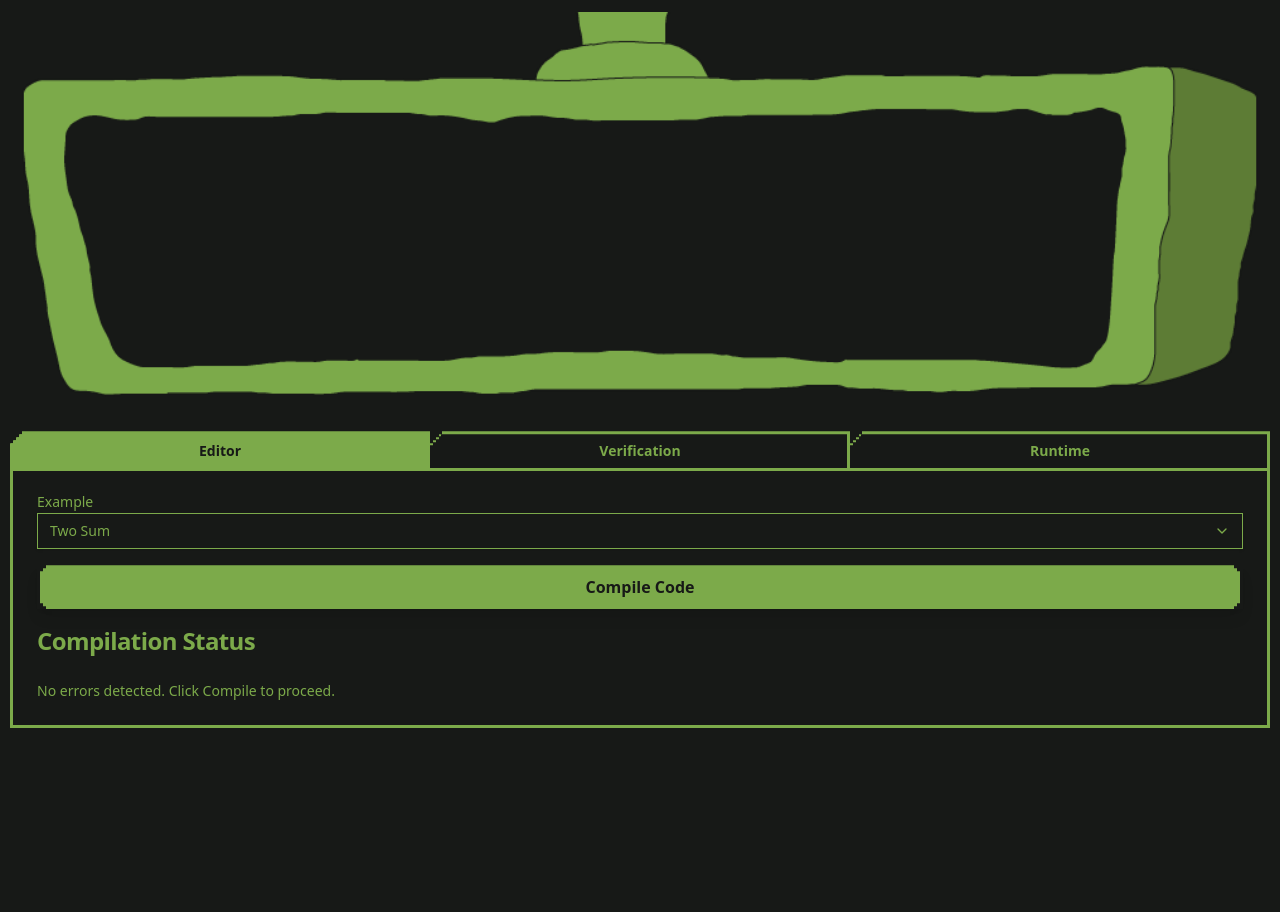
Test: ControlPanel › supports fuzzy example search with initials and skipped characters
The image size is (1280, 912).
Click the dropdown named "Example".
click(80, 531)  # box [37,513,1243,549]
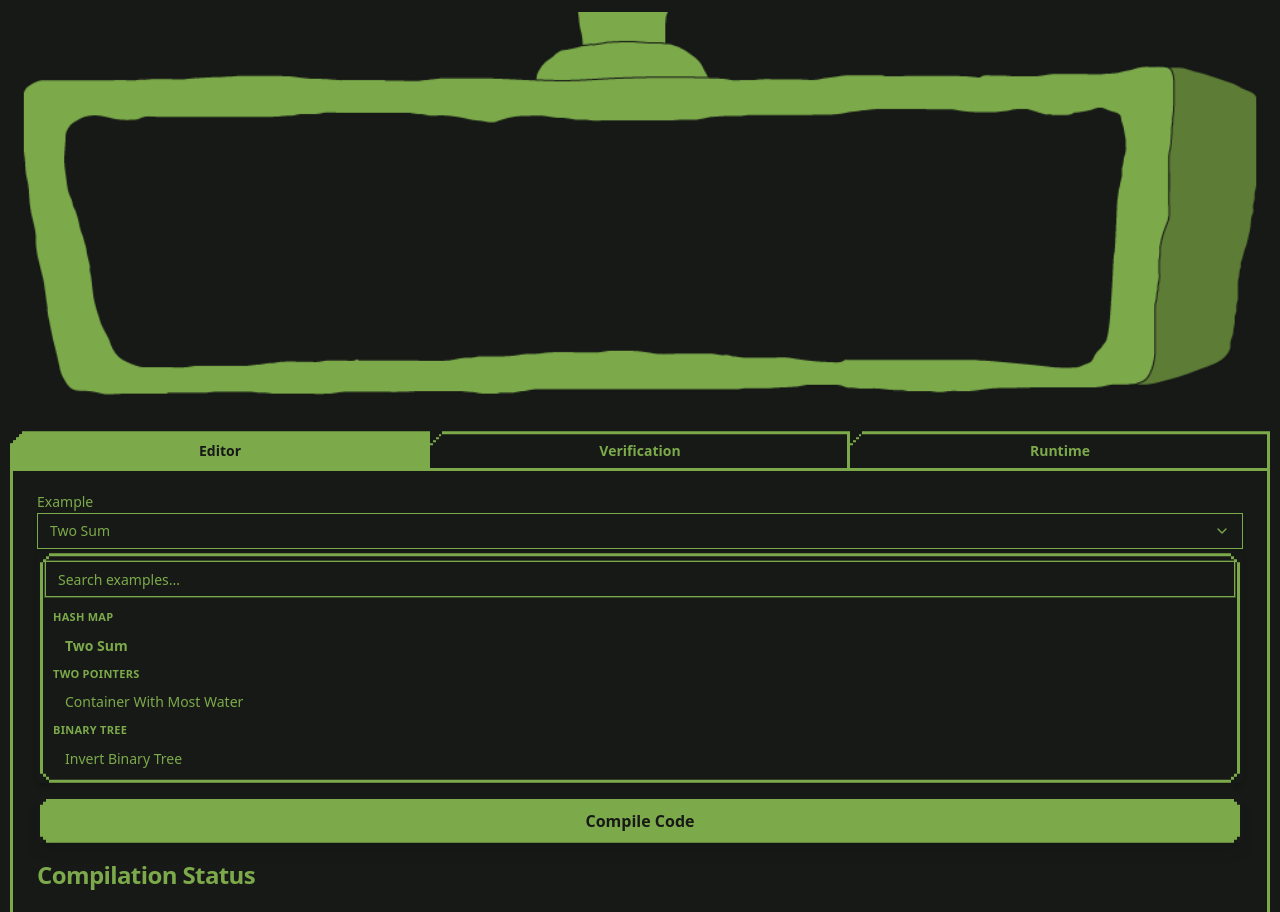
Type "cwmw" into the field labelled "Search examples".
click(640, 579); type("cwmw")  # box [45,561,1235,597]
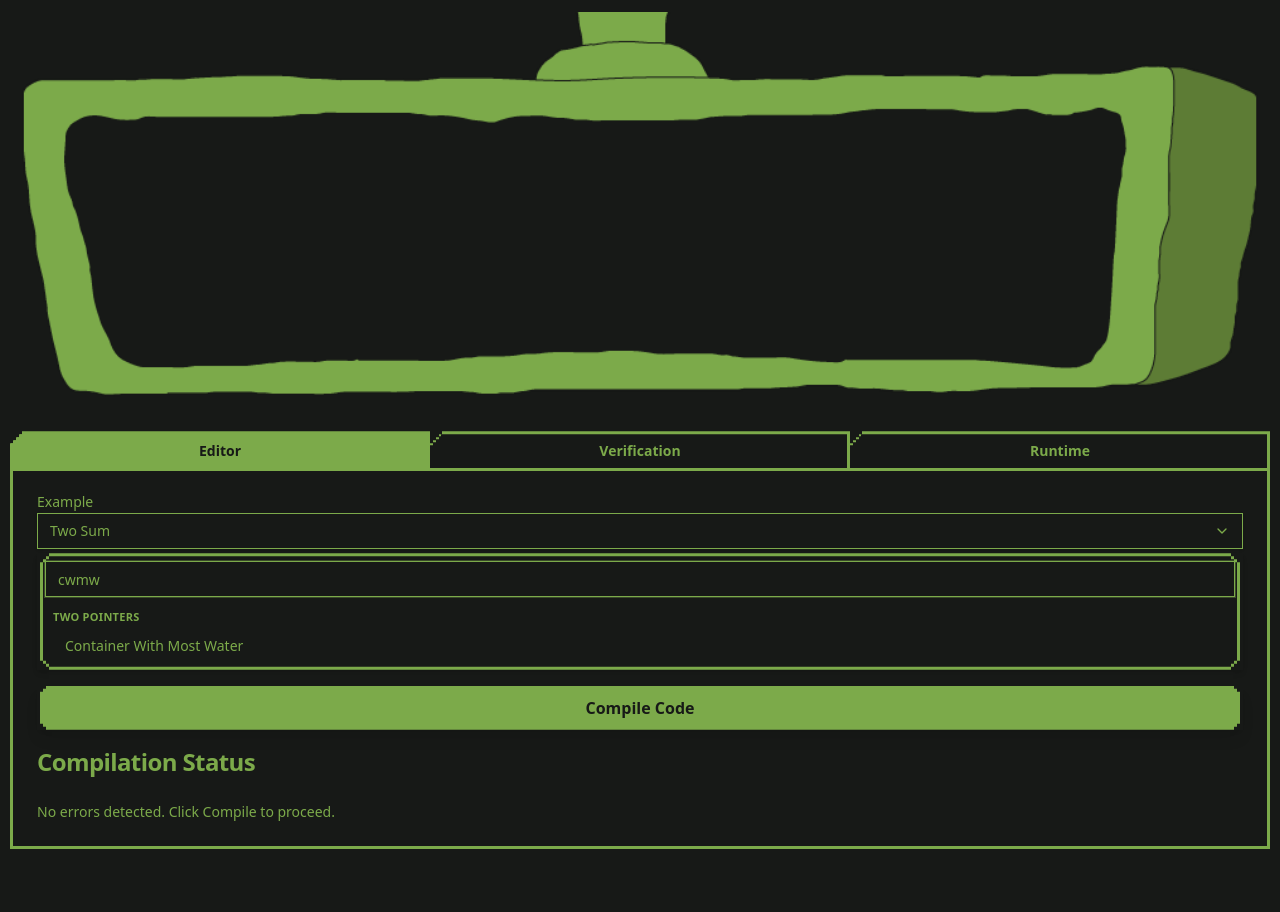
expect the option "Container With Most Water" is shown: met, box [45,630,1235,662]
expect the option "Invert Binary Tree" is gone: met
Replace the text in the field named "Search examples" with "ibt" at {"x": 640, "y": 579}, box [45,561,1235,597]
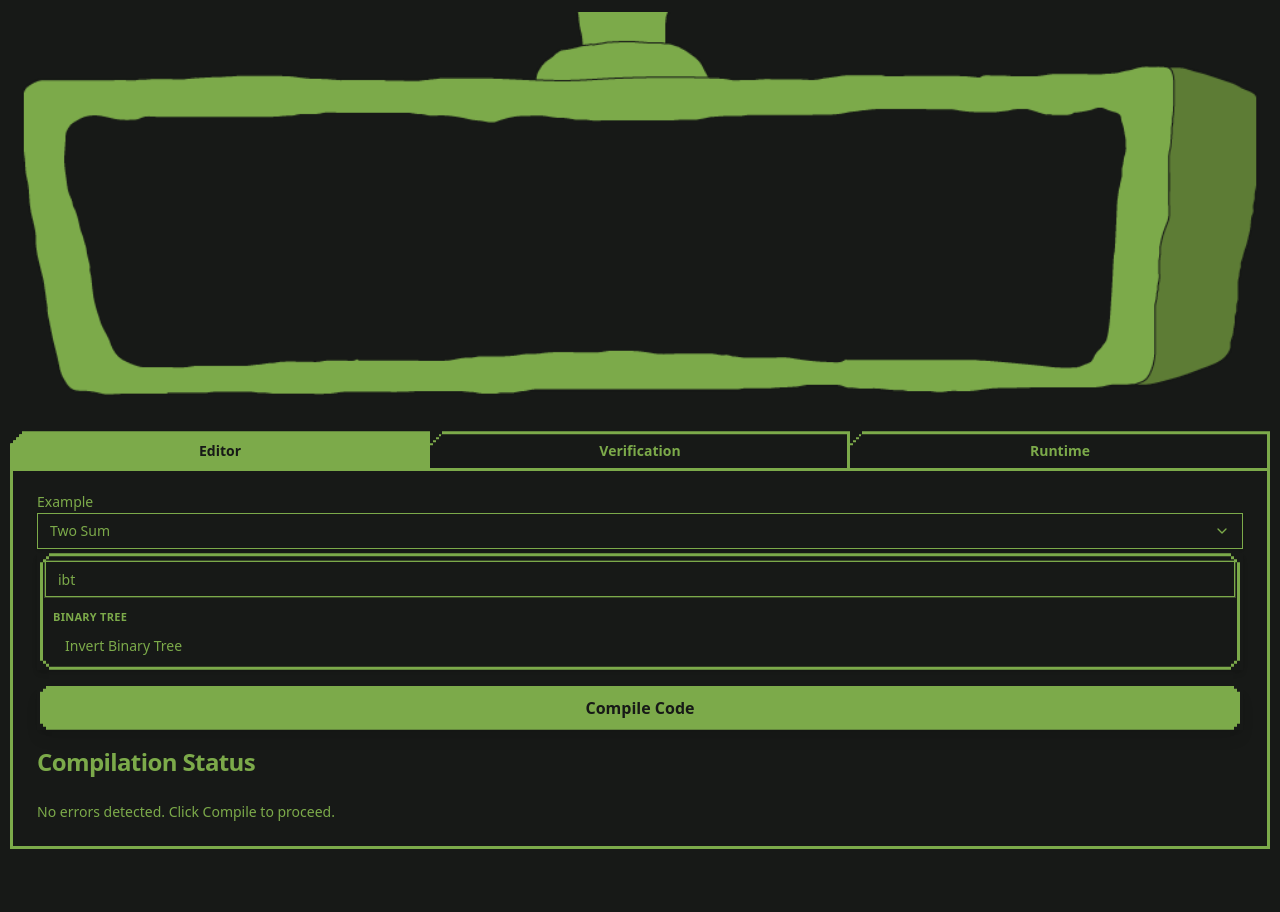
expect the option "Invert Binary Tree" is shown: met, box [45,630,1235,662]
expect the option "Container With Most Water" is gone: met
Replace the text in the field named "Search examples" with "cnt water" at {"x": 640, "y": 579}, box [45,561,1235,597]
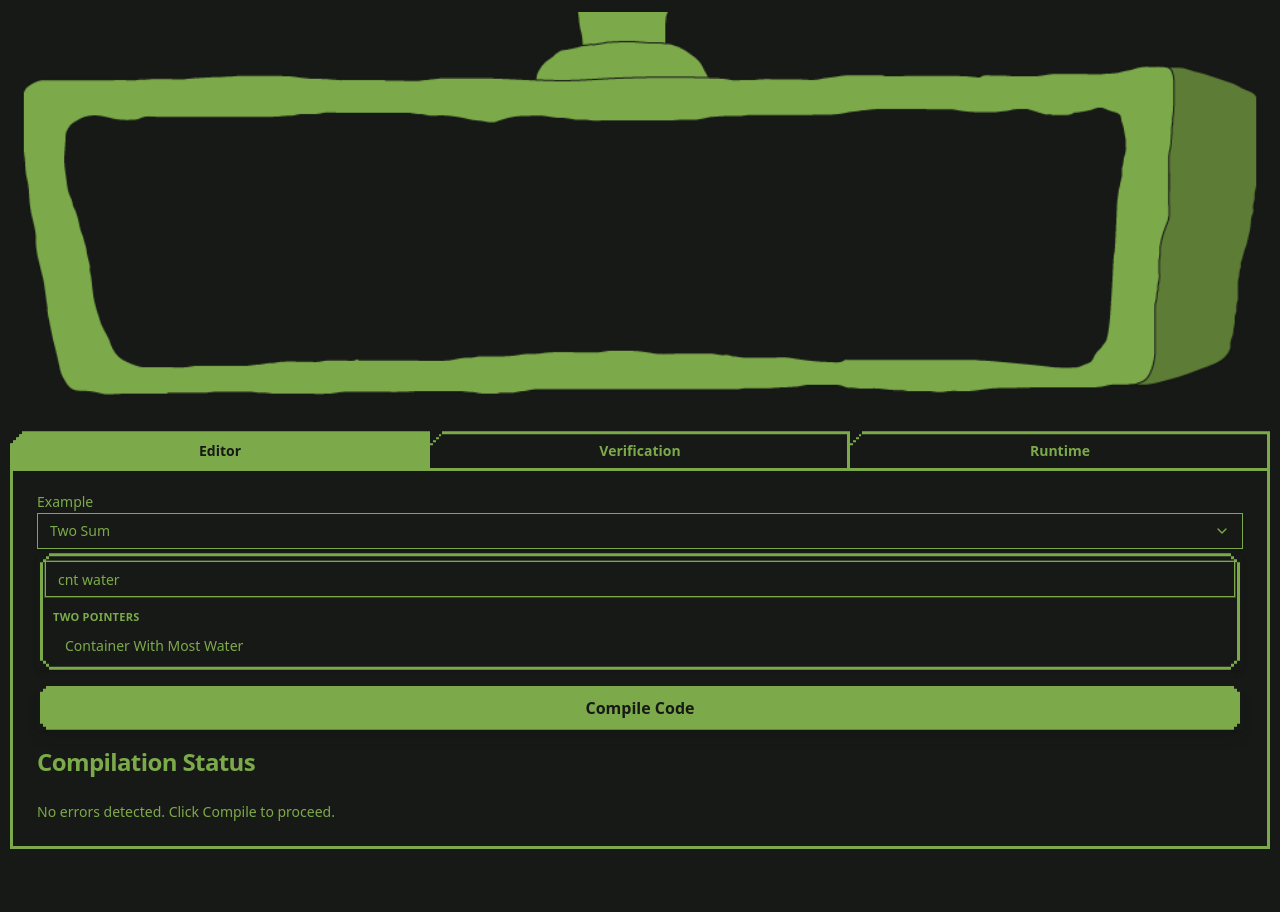
expect the option "Container With Most Water" is shown: met, box [45,630,1235,662]
expect the option "Invert Binary Tree" is gone: met
